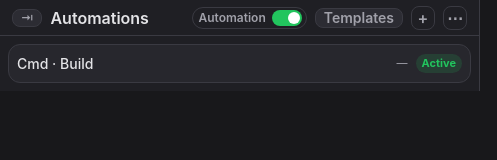
Test: AutomationList.vue — 左栏纯选择列表 › 「⋯」菜单含导出/导入,且带 aria-label(非符号)
Click the button "⋯" at (455, 18), box [443,6,467,30]
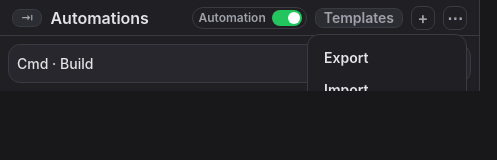
Now the menu is shown, box [307,34,467,91]
